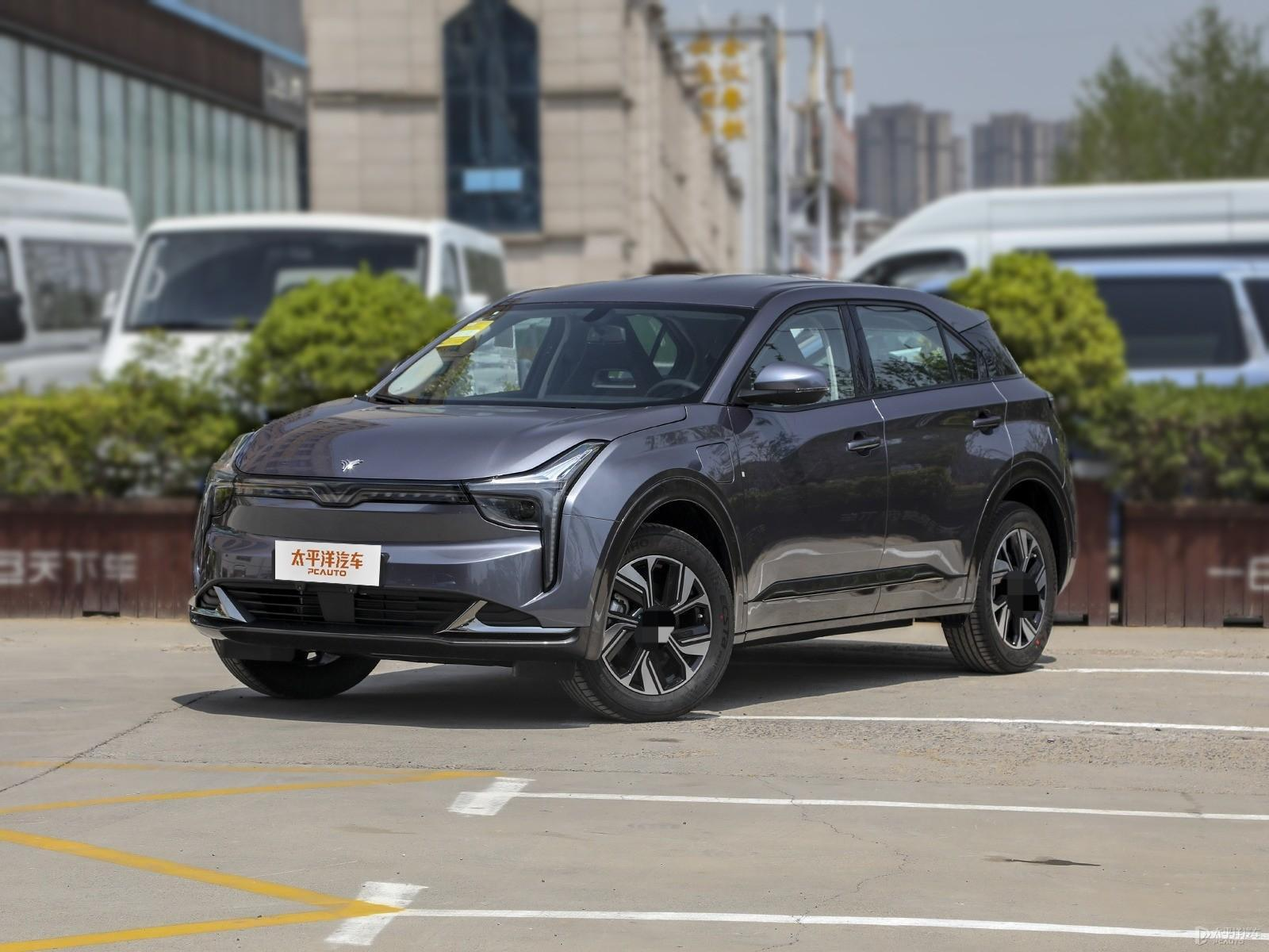NETA: (340, 458, 363, 474)
